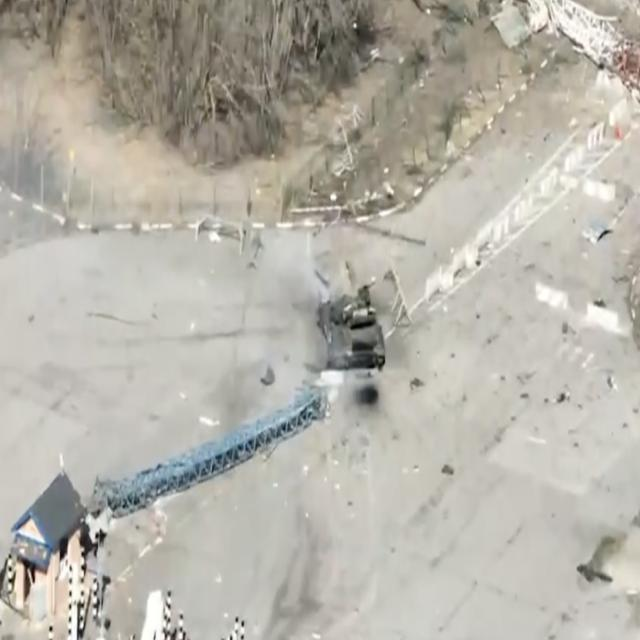vehicle: (318, 280, 387, 371)
